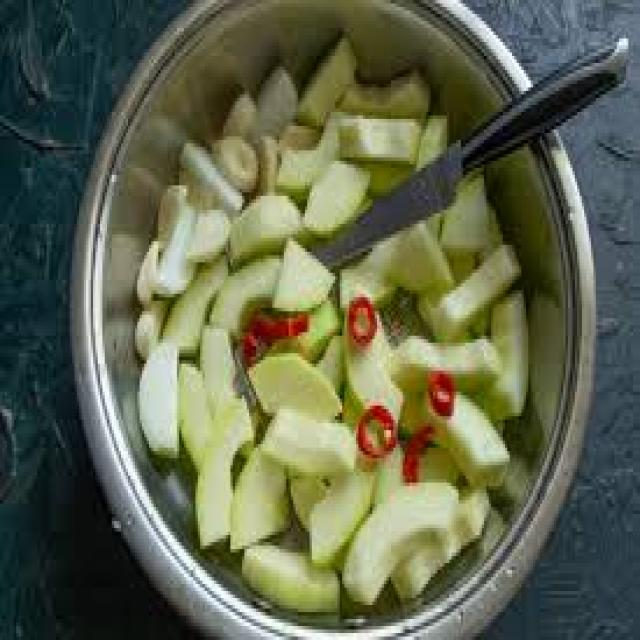hot pepper: (233, 296, 314, 376), (354, 399, 402, 463), (343, 286, 384, 355), (422, 362, 466, 424), (400, 416, 437, 486)
vegetable marrow: (147, 61, 502, 567)
